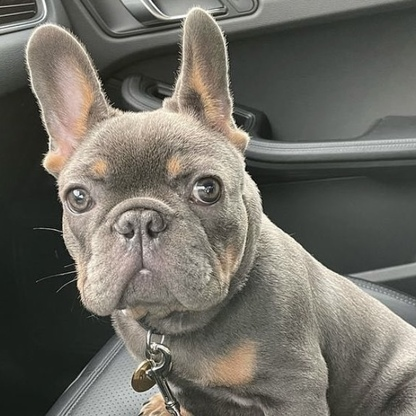bulldog: (23, 9, 416, 414)
